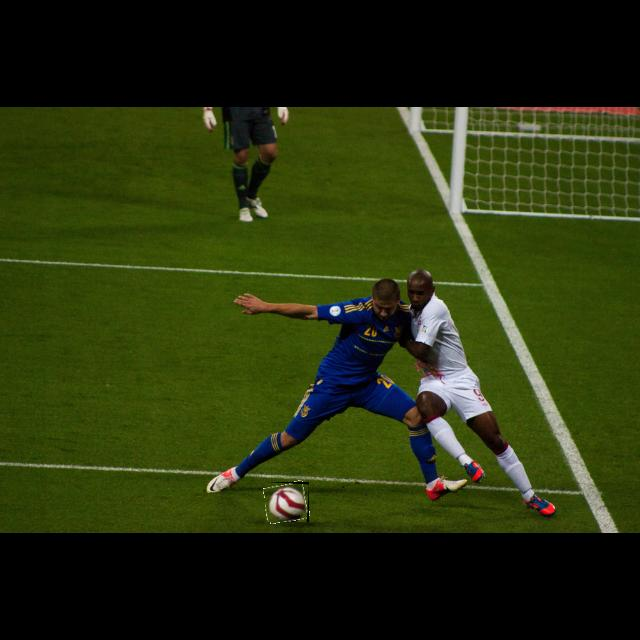Football: (265, 482, 309, 522)
